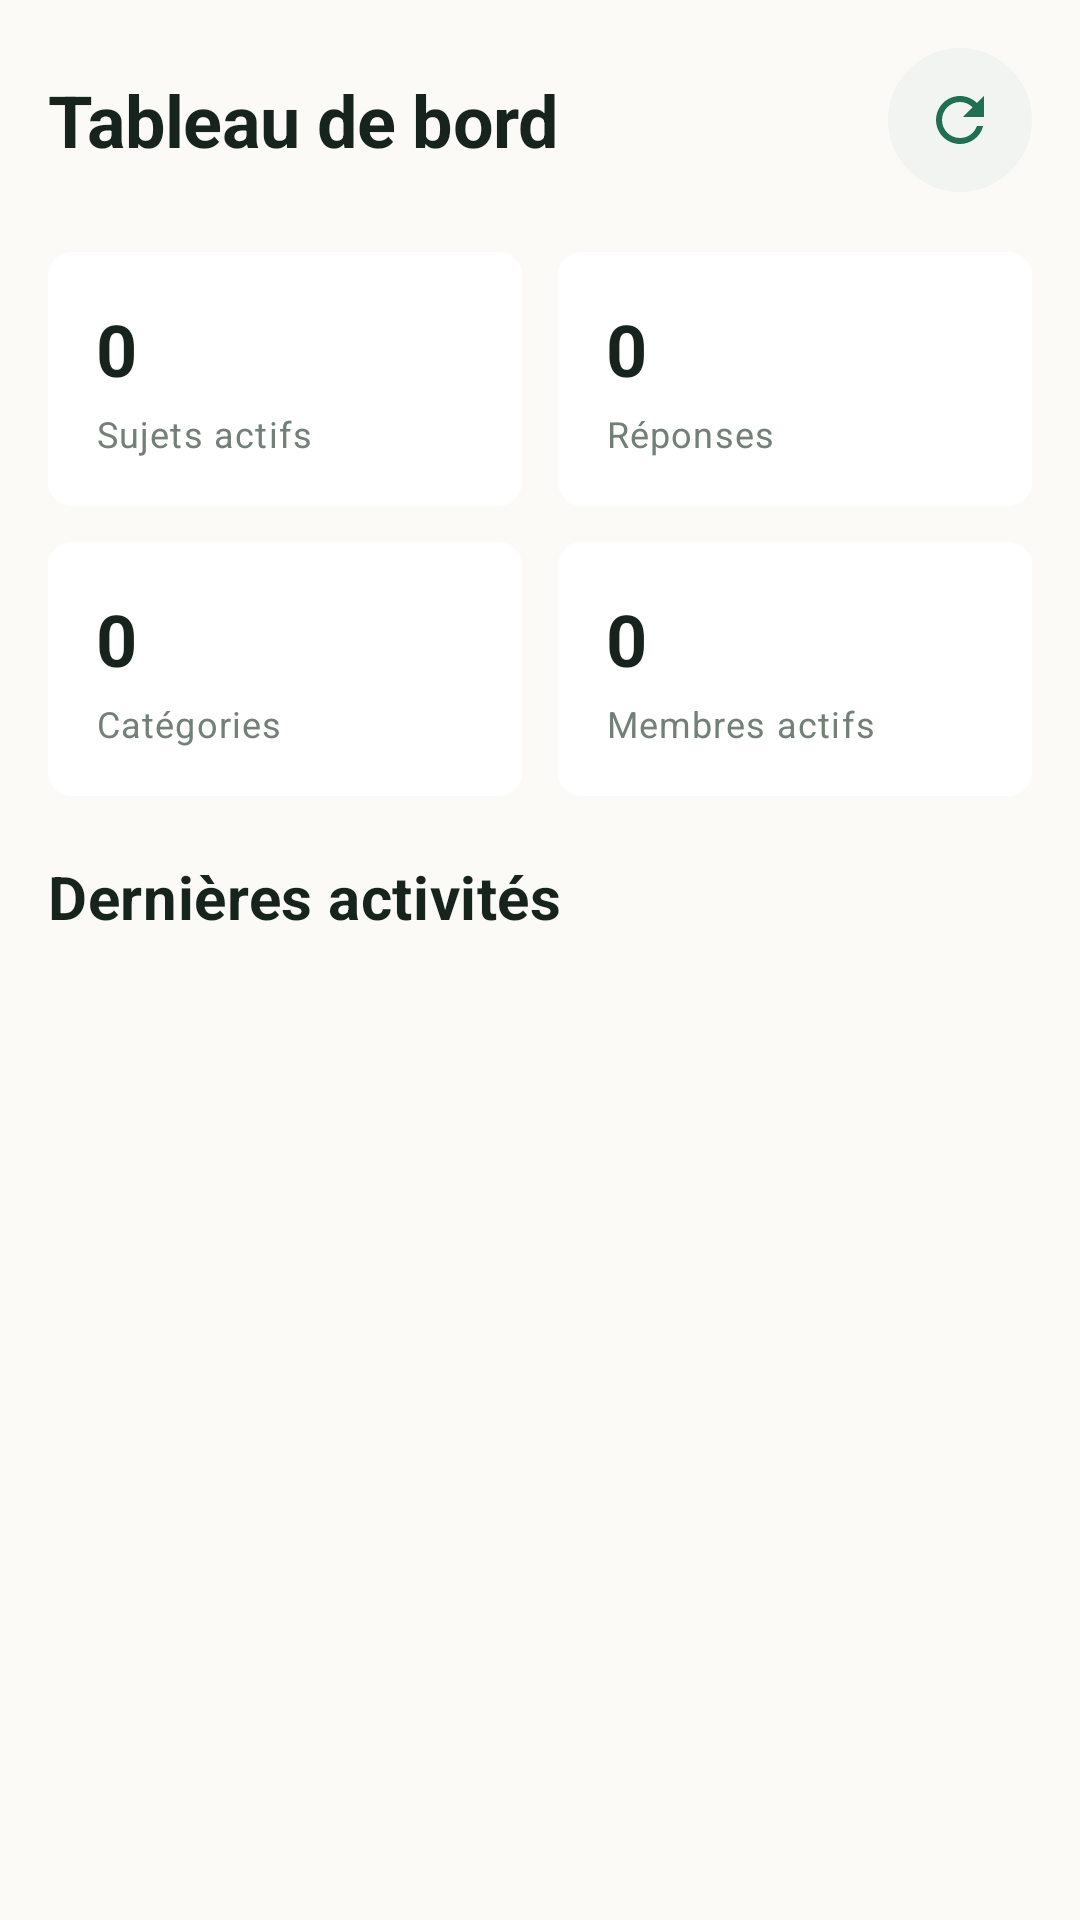

Locate icon controls on the screen. Image size 1080x1920, boxes as (x1, y1, x2, y2).
Actualiser: (888, 48, 1032, 192)
